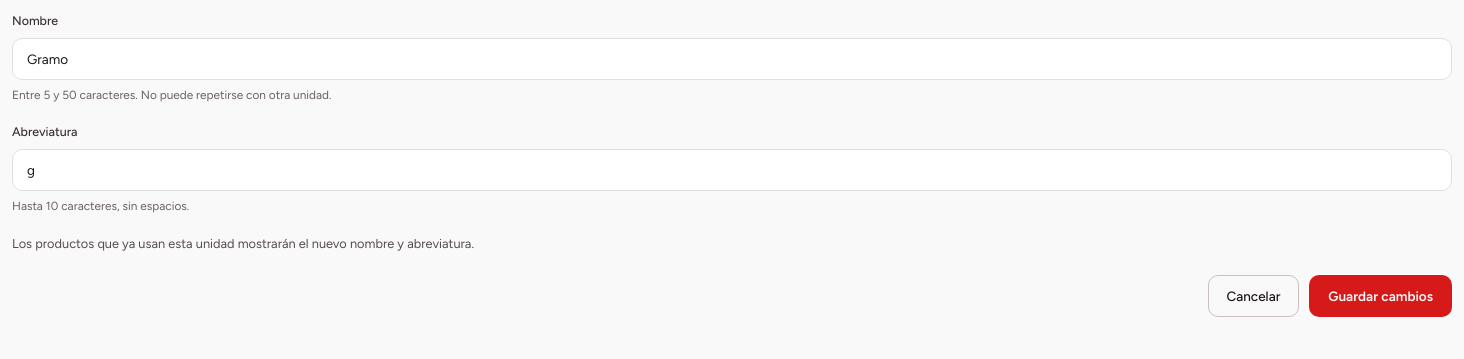
EditUnitForm › shows the conflict "Unit measure name already exists" on its field
Replace the text in the field labelled "Nombre" with "Gramos" at (732, 59), box left=12, top=38, right=1452, bottom=80
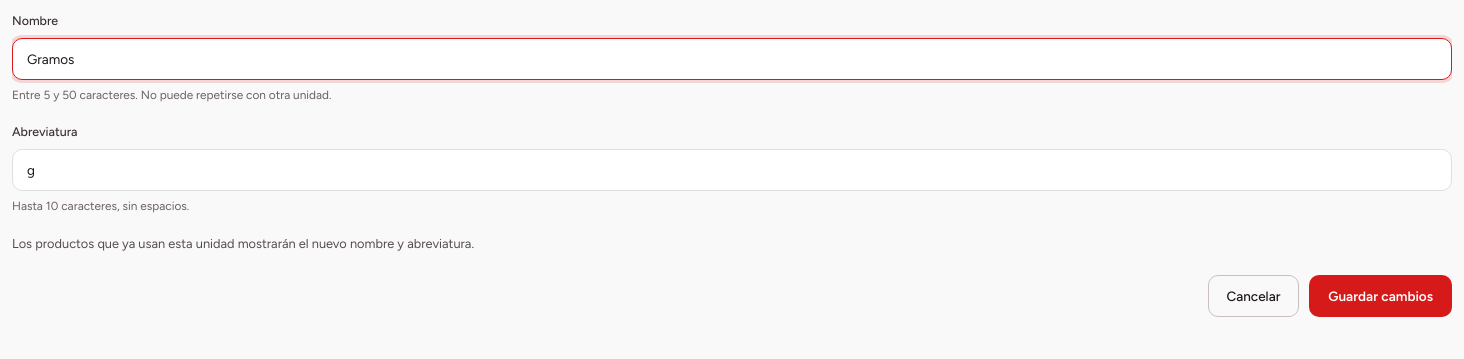
Replace the text in the field labelled "Abreviatura" with "grs" at (732, 170), box left=12, top=149, right=1452, bottom=191
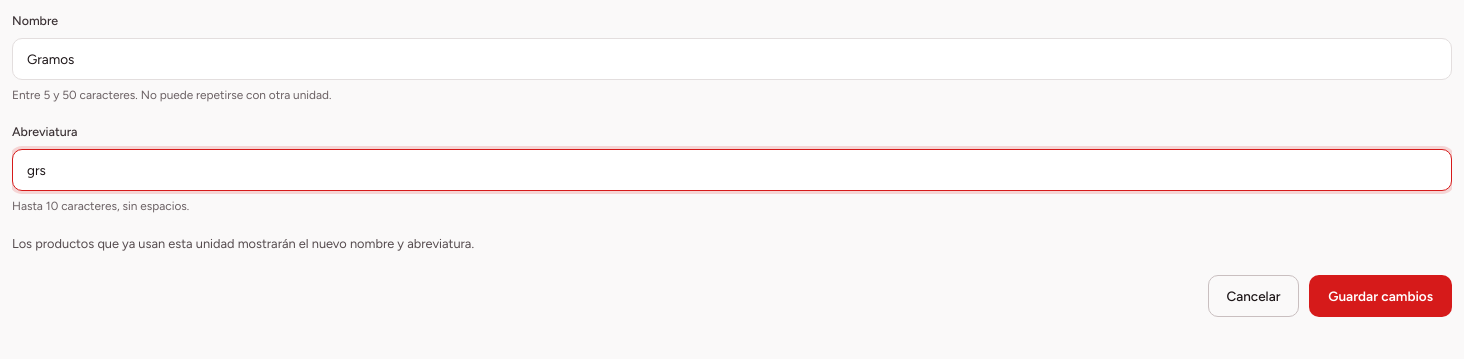
Click the button "Guardar cambios".
click(1381, 296)  # box left=1309, top=275, right=1452, bottom=317
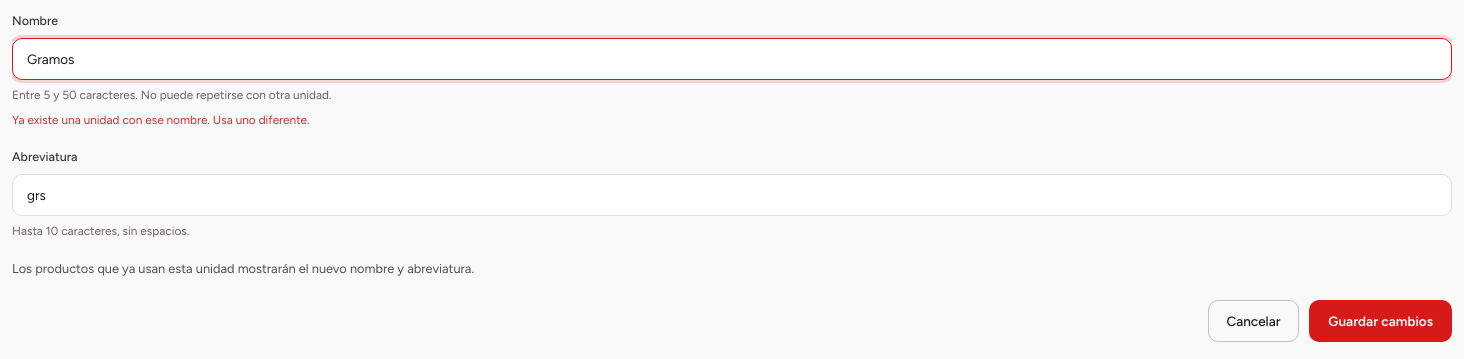
Now the text "Ya existe una unidad con ese nombre. Usa uno diferente." is shown, box left=12, top=113, right=310, bottom=127
